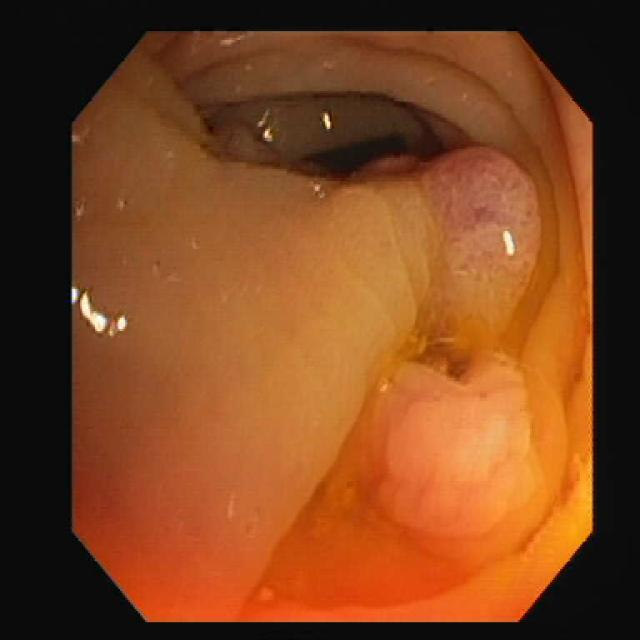tumor: (370, 364, 542, 558), (422, 147, 538, 324)
